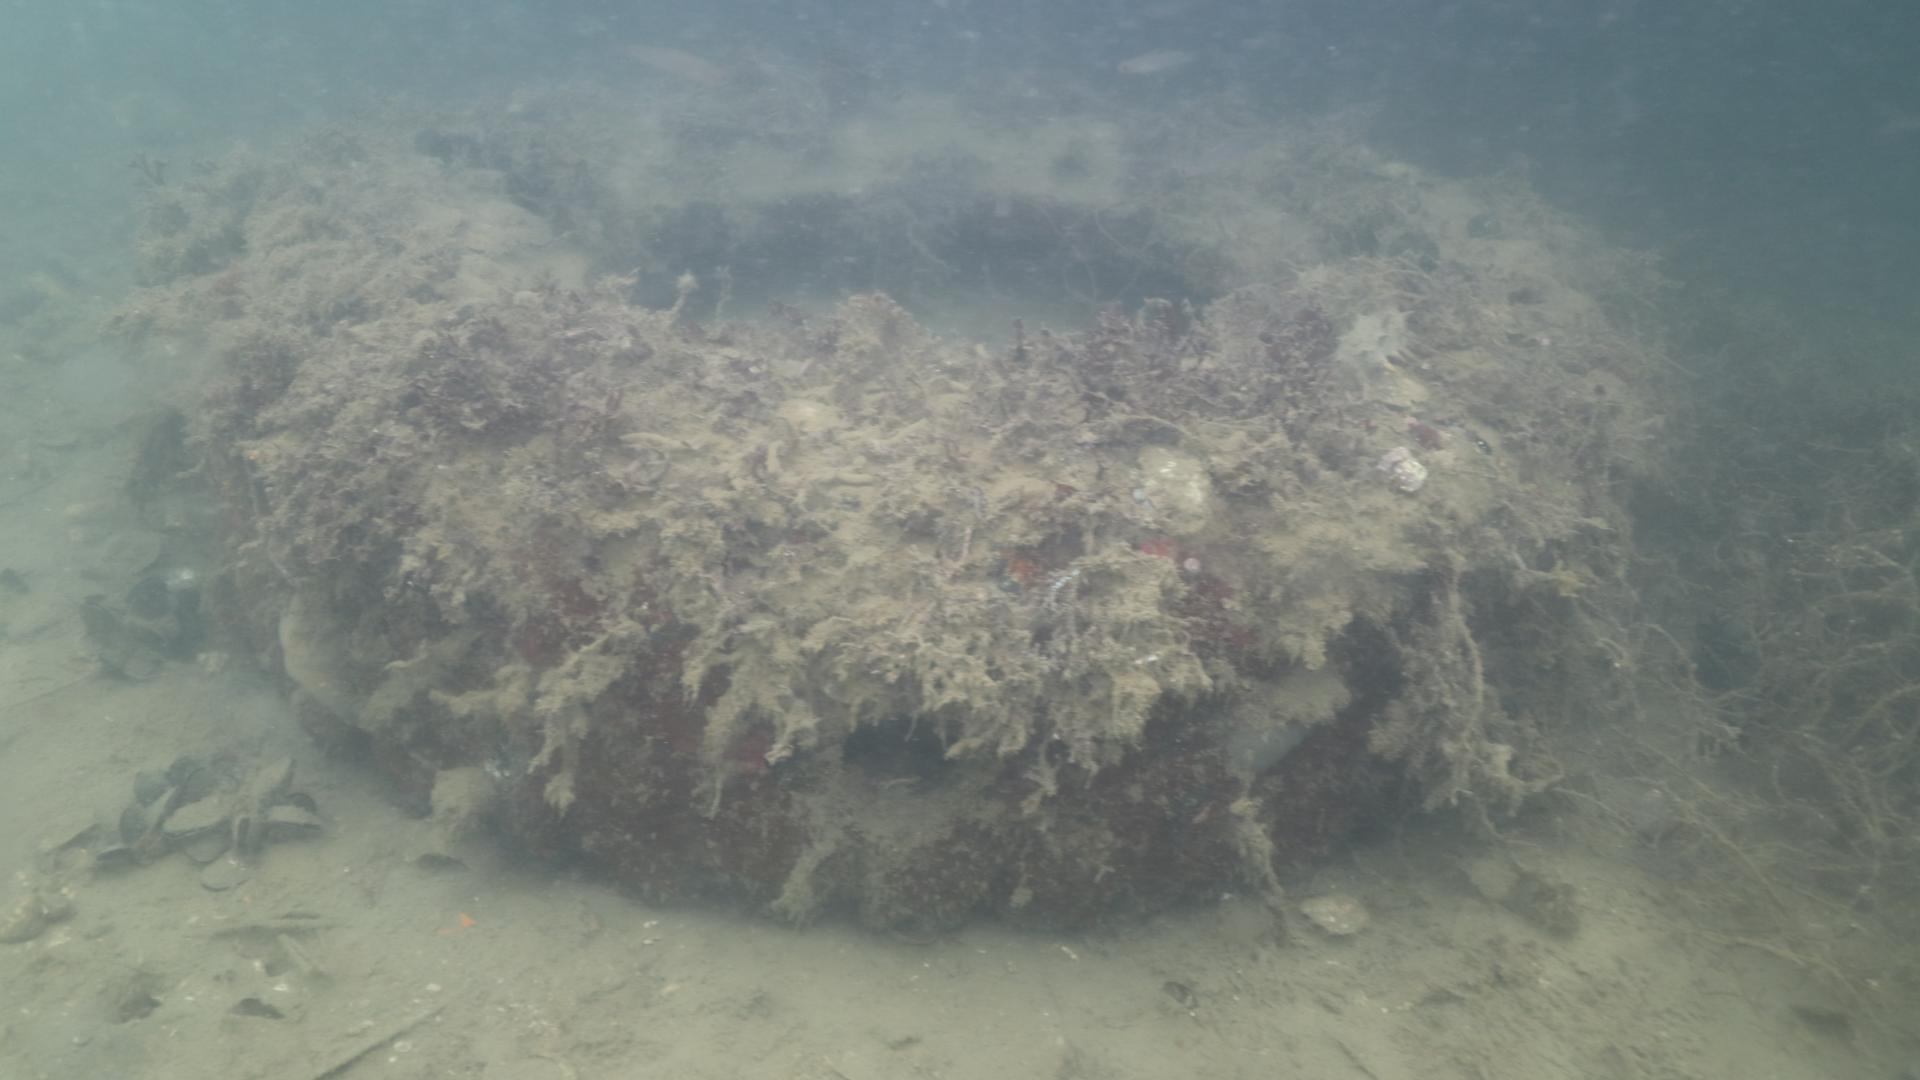tire: (262, 58, 1556, 940)
